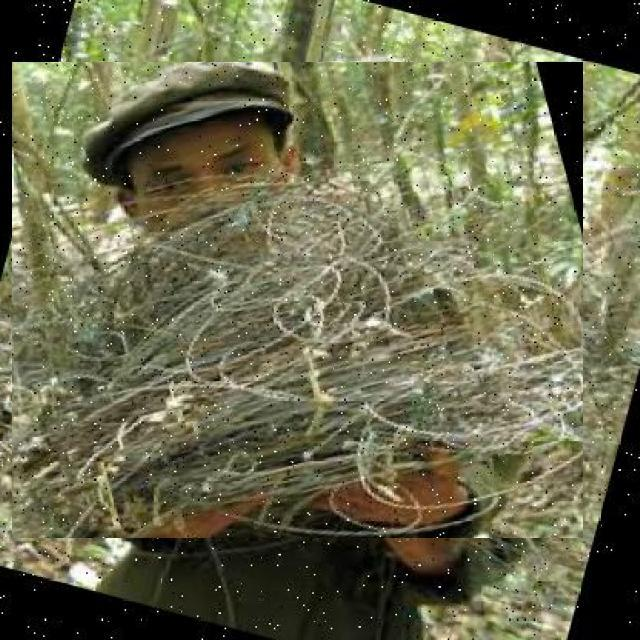poacher: (12, 61, 583, 538)
